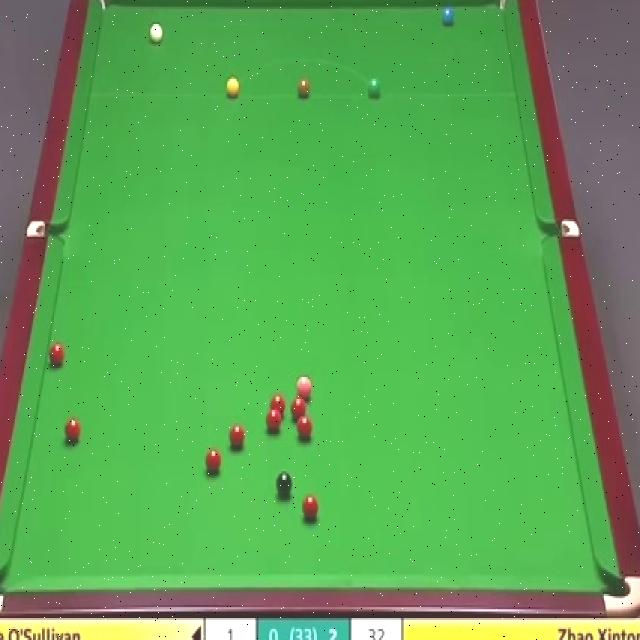black-ball: (276, 471, 294, 497)
blue-ball: (441, 4, 454, 27)
brown-ball: (298, 77, 312, 98)
green-ball: (366, 77, 382, 100)
pink-ball: (296, 373, 314, 400)
red-ball: (265, 408, 284, 434), (64, 414, 81, 443), (296, 413, 313, 440), (204, 448, 223, 472), (291, 396, 308, 422), (48, 343, 66, 367), (228, 422, 245, 447), (270, 393, 286, 416), (304, 494, 318, 518)
white-ball: (149, 22, 164, 45)
yellow-ball: (224, 76, 241, 98)
